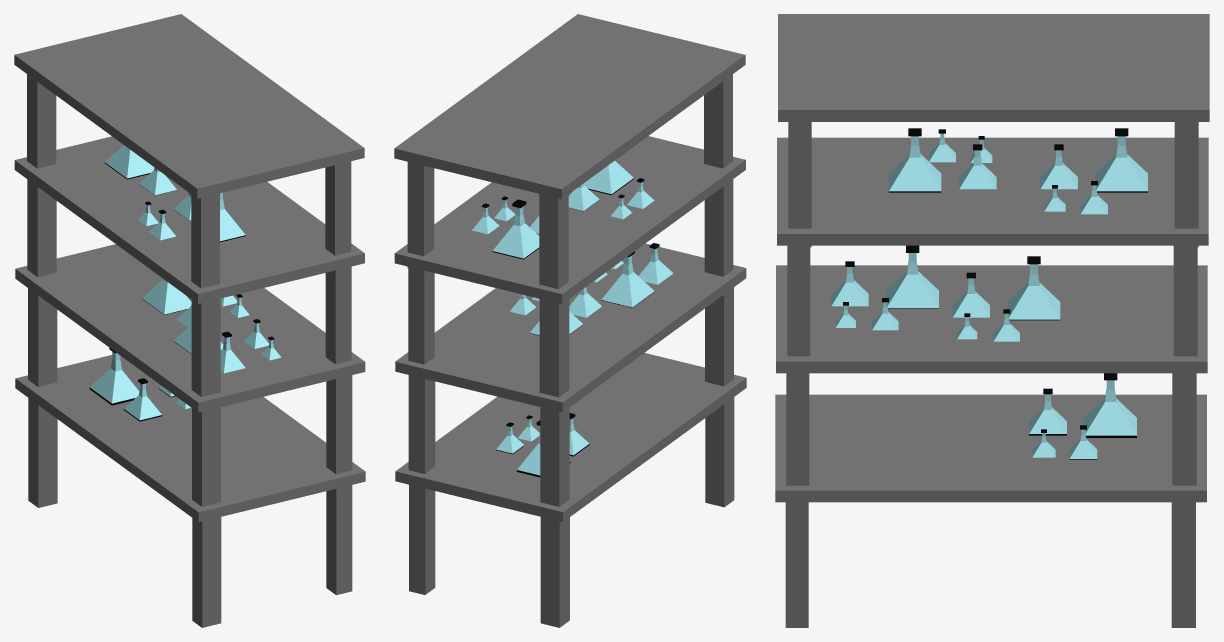
The model's file is Estante.fbx.
3 renders of one model, left to right at view 1: azimuth 30°, elevation 25°; view 2: azimuth 150°, elevation 25°; view 3: azimuth 270°, elevation 25°, orthographic. The views are drawn at different scales.
Parts seen in each view (by area): view 1: Cubo.007, Cube.004, Cube.006, Cube.007, Cube.008, Cube.005; view 2: Cubo.007, Cube.008, Cube.007, Cube.005, Cube.004, Cube.006; view 3: Cubo.007, Cube.004, Cube.007, Cube.008, Cube.006, Cube.005.
Part boxes in pixels (x1,y1,x2,y2): Cubo.007: (14, 14, 365, 627); Cube.004: (89, 348, 190, 421); Cube.006: (142, 279, 249, 327); Cube.007: (104, 145, 176, 195); Cube.008: (137, 192, 245, 242); Cube.005: (174, 319, 281, 373); Cubo.007: (394, 14, 746, 627); Cube.008: (568, 161, 654, 219); Cube.007: (472, 196, 539, 259); Cube.005: (593, 243, 673, 307); Cube.004: (496, 413, 589, 477); Cube.006: (510, 287, 601, 335); Cubo.007: (775, 14, 1209, 627); Cube.004: (1029, 373, 1136, 459); Cube.007: (1040, 128, 1147, 214); Cube.008: (888, 128, 996, 192); Cube.006: (952, 256, 1060, 341); Cube.005: (831, 245, 938, 330).
Bounding box in the file's own units: 200 × 507 × 382.
